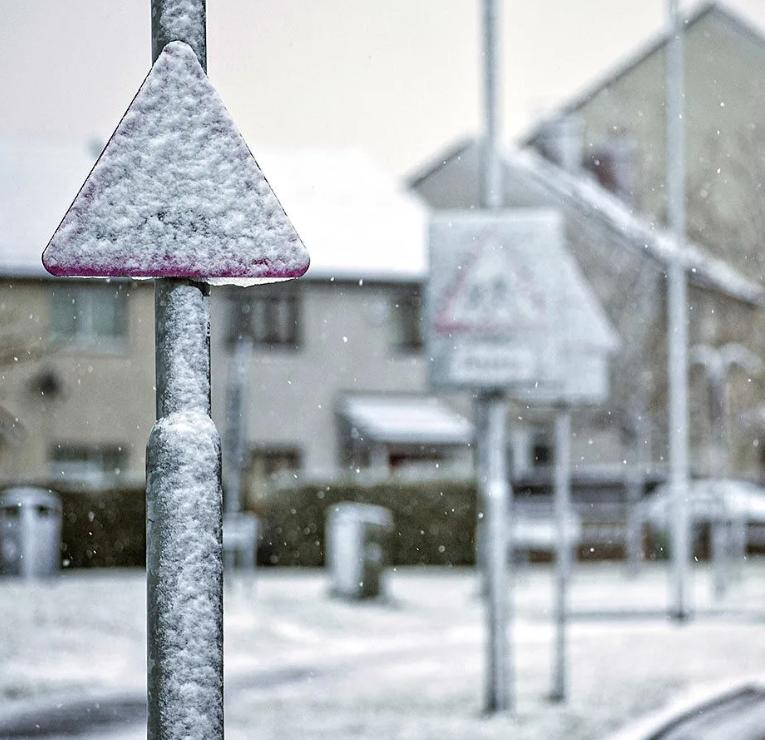obstructed_road_sign: (43, 45, 309, 284)
